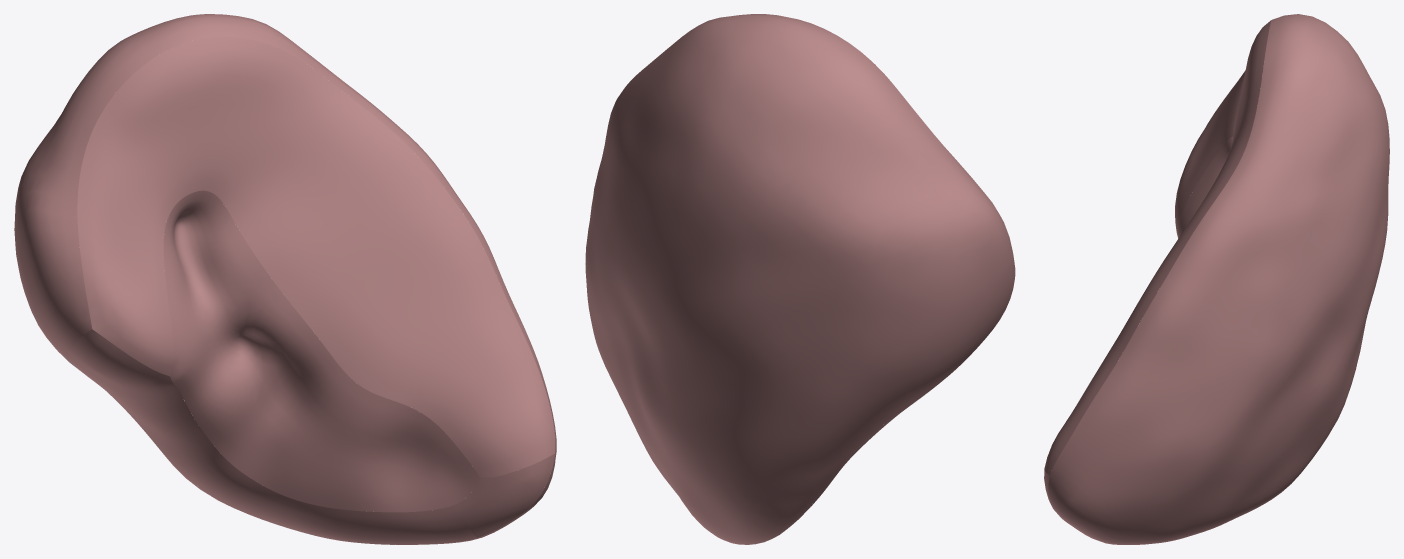
File: hra-spleen-female-v1.glb
The picture shows the model from 3 angles, left to right: view 1: azimuth 30°, elevation 25°; view 2: azimuth 150°, elevation 25°; view 3: azimuth 270°, elevation 25°; orthographic projection. The views are drawn at different scales.
Visible parts, largest first — view 1: VH_F_gastric_surface_of_spleen, VH_F_hilum_of_spleen, VH_F_diaphragmatic_surface_of_spleen, VH_F_renal_surface_of_spleen, VH_F_colic_surface_of_spleen; view 2: VH_F_diaphragmatic_surface_of_spleen; view 3: VH_F_diaphragmatic_surface_of_spleen, VH_F_gastric_surface_of_spleen, VH_F_hilum_of_spleen.
Boxes of the visible parts, <box> form: VH_F_gastric_surface_of_spleen: <box>77,36,555,477</box>; VH_F_hilum_of_spleen: <box>163,190,479,512</box>; VH_F_diaphragmatic_surface_of_spleen: <box>14,14,556,544</box>; VH_F_renal_surface_of_spleen: <box>67,329,477,544</box>; VH_F_colic_surface_of_spleen: <box>458,453,555,537</box>; VH_F_diaphragmatic_surface_of_spleen: <box>585,14,1015,544</box>; VH_F_diaphragmatic_surface_of_spleen: <box>1048,14,1389,544</box>; VH_F_gastric_surface_of_spleen: <box>1044,20,1270,475</box>; VH_F_hilum_of_spleen: <box>1178,136,1233,237</box>.
Bounding box in the file's own units: 0.0896 × 0.1023 × 0.0709.
